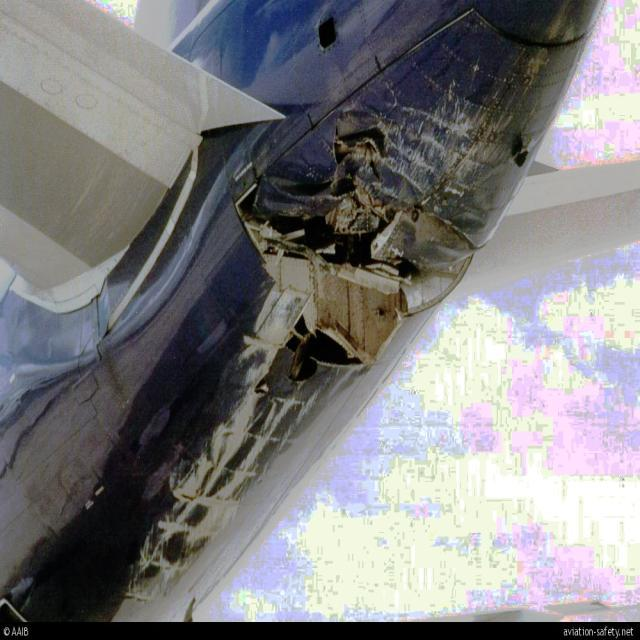crack: (233, 128, 422, 384)
